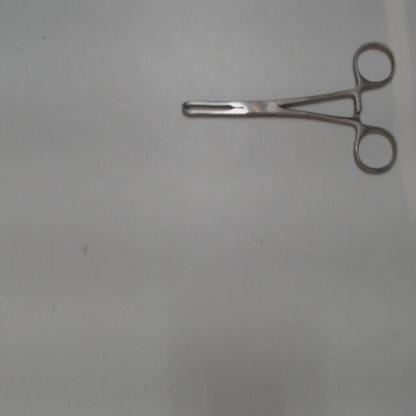Allis Tissue Forceps: (174, 40, 402, 186)
